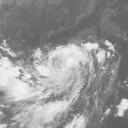cyclone: (34, 43, 97, 105)
